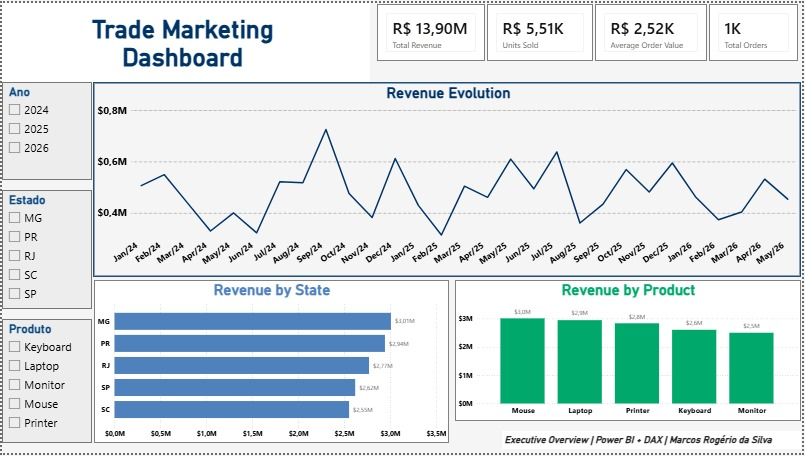

The dashboard page shown, as its layout file describes it:
{"tool":"powerbi","page":{"name":"Page 1","canvas":[1600,900],"ordinal":0},"visuals":[{"type":"cardVisual","fields":{"Data":["Vendas.Receita Total"]},"box":[750,2,216,114],"z":1000},{"type":"cardVisual","fields":{"Data":["Vendas.Volume Vendido"]},"box":[970,2,212,114],"z":2000},{"type":"cardVisual","fields":{"Data":["Vendas.Ticket Médio"]},"box":[1186,2,224,114],"z":3000},{"type":"cardVisual","fields":{"Data":["Vendas.Total Pedidos"]},"box":[1414,2,178,114],"z":4000},{"type":"barChart","title":"Revenue by State","fields":{"Category":["Vendas.Estado"],"Y":["Vendas.Receita Total"]},"box":[198,554,696,326],"z":5000},{"type":"columnChart","title":"Revenue by Product","fields":{"Category":["Vendas.Produto"],"Y":["Vendas.Receita Total"]},"box":[906,554,692,282],"z":6000},{"type":"slicer","fields":{"Values":["Calendario.Ano"]},"box":[0,158,180,196],"z":7000},{"type":"slicer","fields":{"Values":["Vendas.Estado"]},"box":[0,374,180,238],"z":8000},{"type":"slicer","fields":{"Values":["Vendas.Produto"]},"box":[0,632,180,248],"z":9000},{"type":"textbox","box":[0,0,736,158],"z":10000},{"type":"textbox","box":[1000,856,598,36],"z":11000},{"type":"lineChart","title":"Revenue Evolution","fields":{"Category":["Calendario.Ano Mês"],"Y":["Vendas.Receita Total"]},"box":[198.3,158.3,1400,390],"z":12000}]}

Visuals, with their boxes in screenshot pixels (x1, y1, x2, y2), scaled from the page's 1600x900 canvas onto the 805x456 screenshot:
cardVisual - Vendas.Receita Total: detection(377, 1, 486, 59)
cardVisual - Vendas.Volume Vendido: detection(488, 1, 595, 59)
cardVisual - Vendas.Ticket Médio: detection(597, 1, 709, 59)
cardVisual - Vendas.Total Pedidos: detection(711, 1, 801, 59)
"Revenue by State" barChart: detection(100, 281, 450, 446)
"Revenue by Product" columnChart: detection(456, 281, 804, 424)
slicer - Calendario.Ano: detection(0, 80, 91, 179)
slicer - Vendas.Estado: detection(0, 189, 91, 310)
slicer - Vendas.Produto: detection(0, 320, 91, 446)
textbox: detection(0, 0, 370, 80)
textbox: detection(503, 434, 804, 452)
"Revenue Evolution" lineChart: detection(100, 80, 804, 278)
